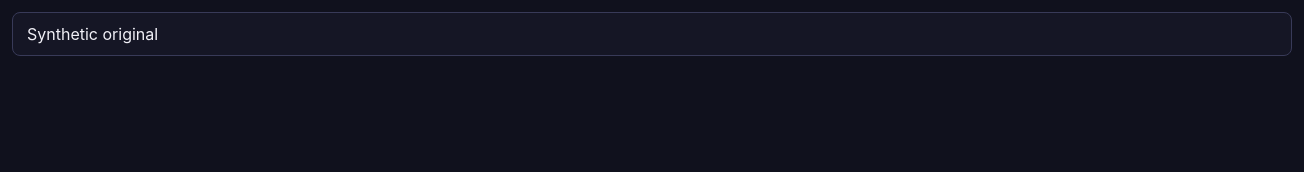
Test case: ordinary editing after settled legacy receipt starts a fresh MCP intent
Later steps or results of the test are not shown.
Replace the text in the field named "Ask Hermes about tasks, projects, or calendar" with "Edited draft" at point(652, 34), box [12,12,1292,56]
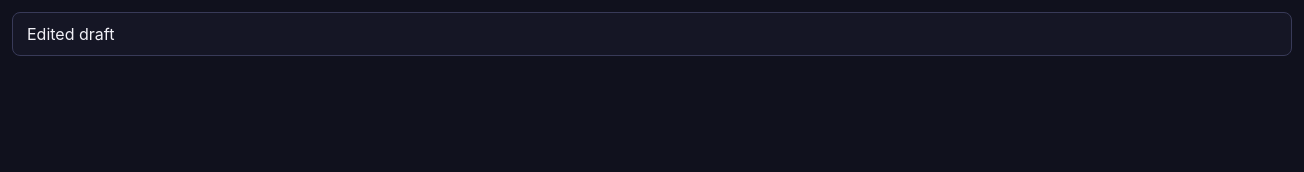
Submit the form named "Ask Hermes about tasks, projects, or calendar", box [12,12,1292,56]
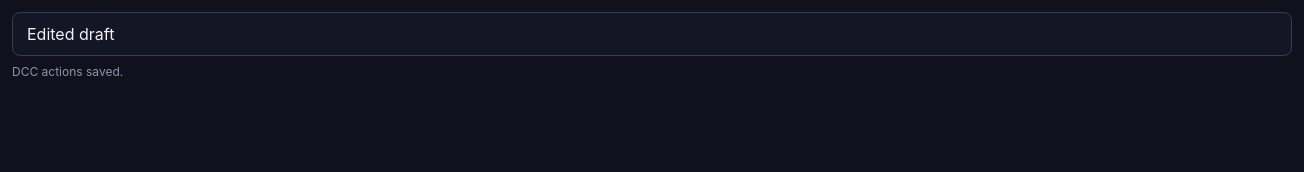
Expected: the text "DCC actions saved." is shown, [12,64,123,79]
